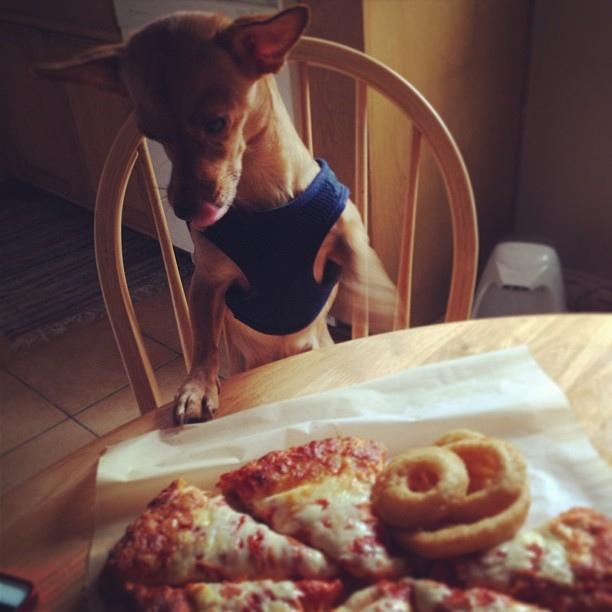onion: (386, 480, 532, 560), (438, 438, 524, 522), (428, 428, 488, 448), (466, 462, 497, 494)
